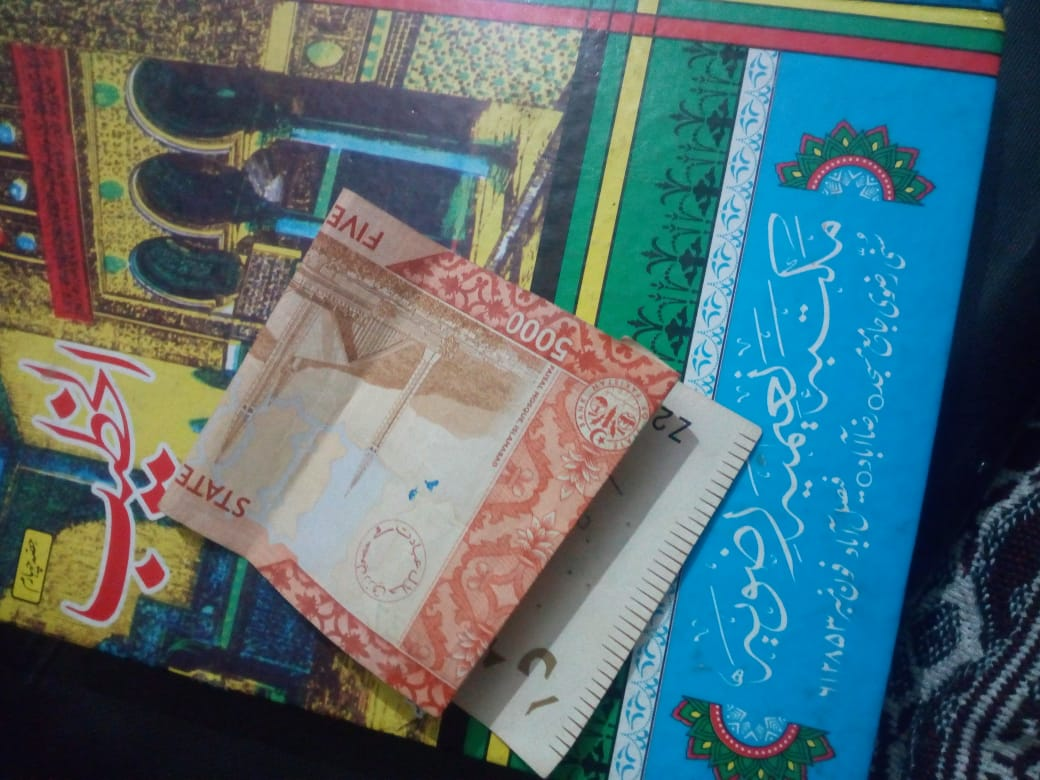5000 rupee: (155, 196, 699, 730)
